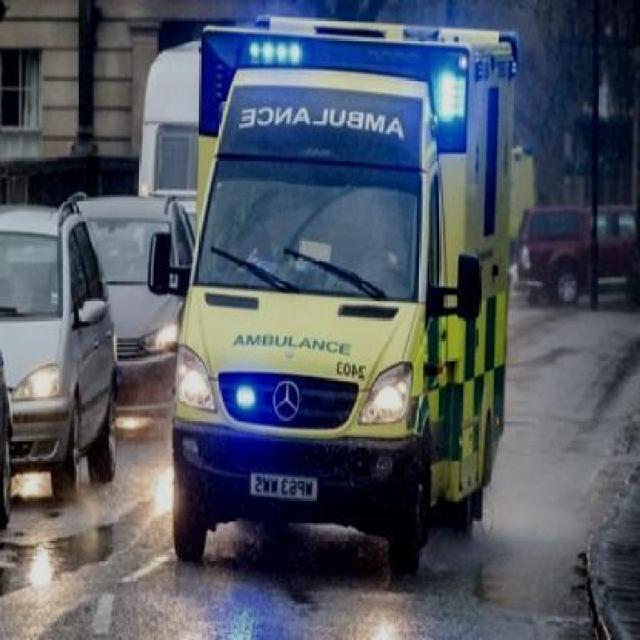emergency: (168, 14, 524, 574)
